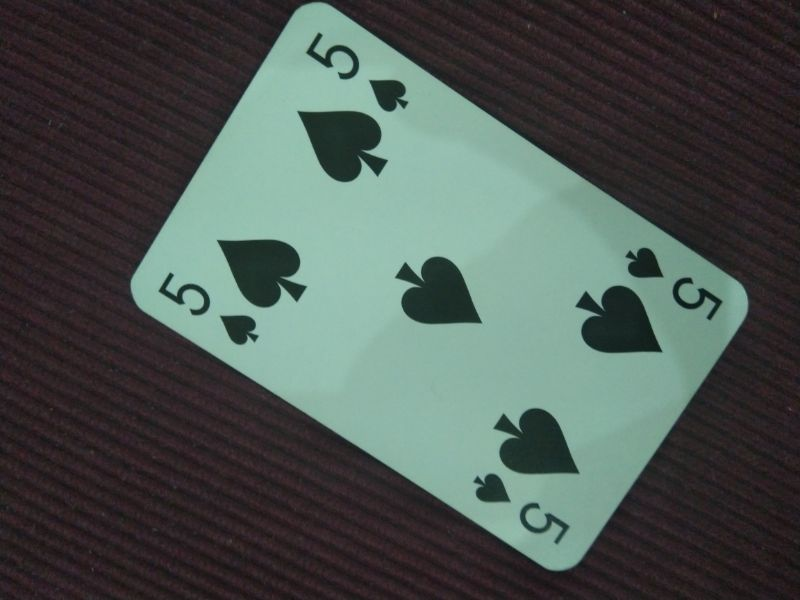5s: (300, 28, 414, 117), (155, 269, 262, 351), (468, 470, 575, 550), (622, 240, 725, 323)
